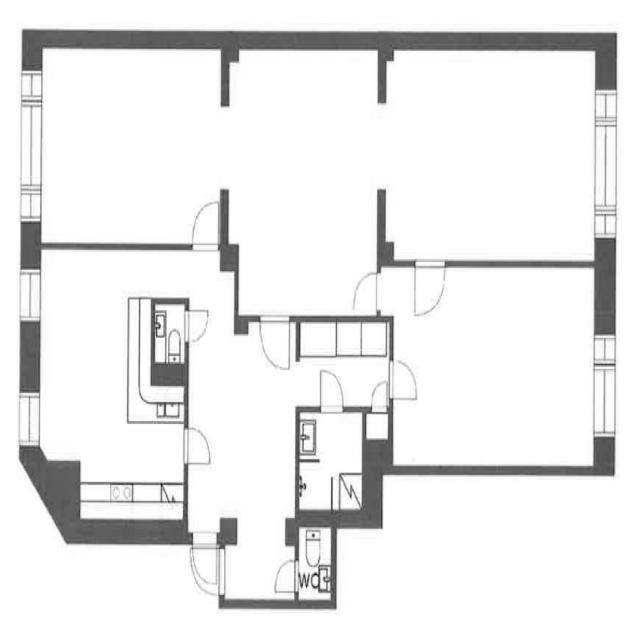door: (301, 315, 391, 415), (224, 528, 300, 606), (311, 348, 366, 417), (409, 253, 450, 323), (254, 308, 294, 377), (186, 191, 226, 259), (187, 531, 224, 600), (346, 264, 386, 320), (180, 422, 217, 474), (316, 362, 346, 419), (388, 355, 420, 406), (270, 554, 300, 600), (182, 304, 212, 348), (368, 376, 391, 414)
window: (15, 52, 48, 245), (589, 73, 621, 254), (590, 320, 619, 452), (14, 382, 44, 455), (16, 258, 44, 336)
zone: (382, 47, 603, 269), (388, 263, 604, 477), (225, 42, 385, 318), (35, 258, 187, 535), (36, 42, 227, 250), (298, 317, 392, 412), (296, 407, 366, 519), (225, 525, 297, 610), (296, 524, 335, 606), (154, 300, 186, 370)
